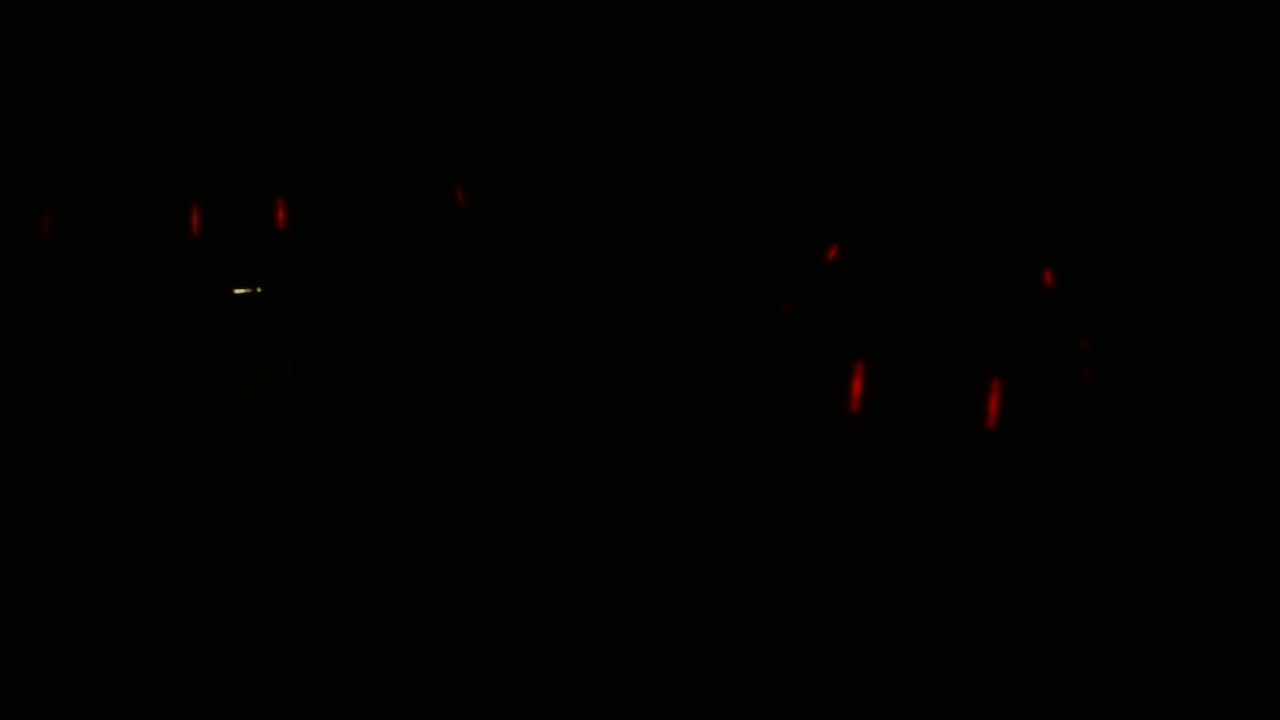pair1: (181, 191, 300, 251)
pair2: (841, 355, 1016, 438)
